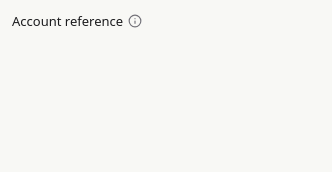
Test case: InfoTip › opens on keyboard focus and closes with Escape
The image size is (332, 172).
Focus the button named "About Account reference" at {"x": 135, "y": 21}, box [127, 13, 143, 29]
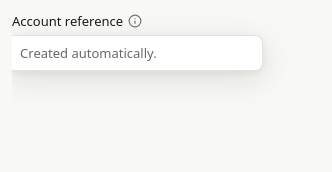
Result: the tooltip reads "Created automatically." at [20, 44, 157, 62]
Press Escape in the button named "About Account reference", box [127, 13, 143, 29]
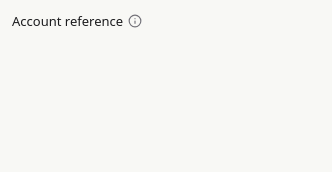
Result: the tooltip "Created automatically." is gone
